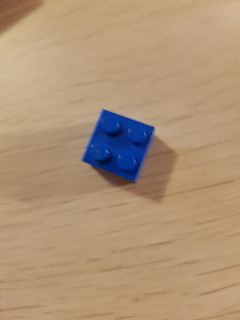2x2 blue: (76, 107, 158, 186)
